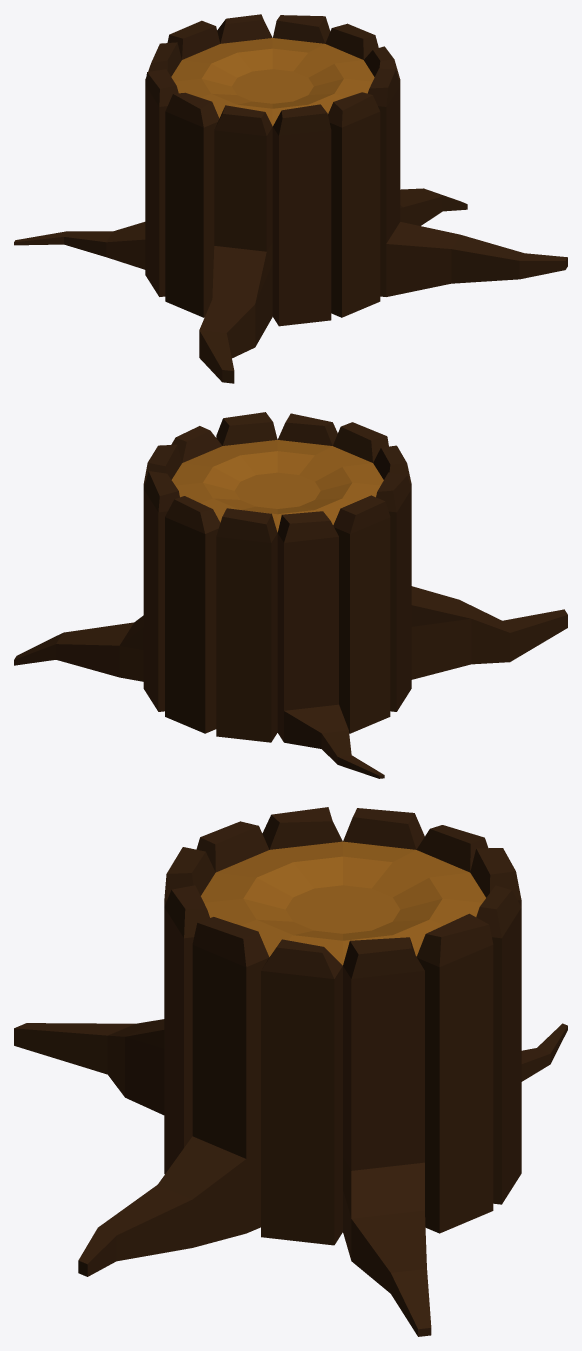
The model's file is TreeSouche.fbx.
The picture shows the model from 3 angles, top to bottom: view 1: azimuth 30°, elevation 25°; view 2: azimuth 150°, elevation 25°; view 3: azimuth 270°, elevation 25°; orthographic projection. The views are drawn at different scales.
Visible parts, largest first — view 1: Cylinder; view 2: Cylinder; view 3: Cylinder.
Part boxes in pixels (box(x1,y1,x2,y2)): Cylinder: box(14, 14, 567, 383); Cylinder: box(14, 412, 567, 778); Cylinder: box(14, 807, 567, 1336).
Size of the model in its own units: 443 by 232 by 377.
